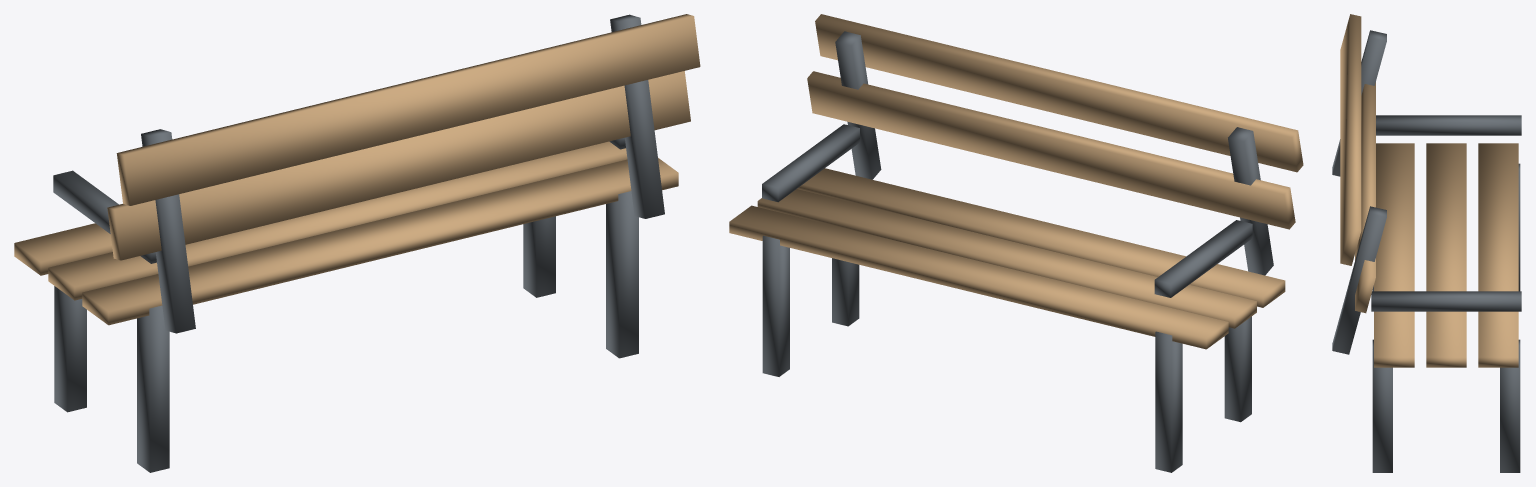
The model's file is street_bench.glb.
3 renders of one model, left to right at view 1: azimuth 30°, elevation 25°; view 2: azimuth 150°, elevation 25°; view 3: azimuth 270°, elevation 25°, orthographic. The views are drawn at different scales.
Visible parts, largest first — view 1: BenchSlats, BenchIron; view 2: BenchSlats, BenchIron; view 3: BenchSlats, BenchIron.
Part boxes in pixels (x1,y1,x2,y2): BenchSlats: (14, 14, 700, 325); BenchIron: (53, 14, 664, 472); BenchSlats: (729, 14, 1303, 349); BenchIron: (762, 31, 1273, 472); BenchSlats: (1340, 14, 1518, 367); BenchIron: (1332, 30, 1521, 472).
Size of the model in its own units: 1.75 by 0.9928 by 0.6544.
